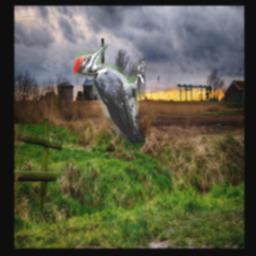Woodpecker: (74, 45, 146, 144)
